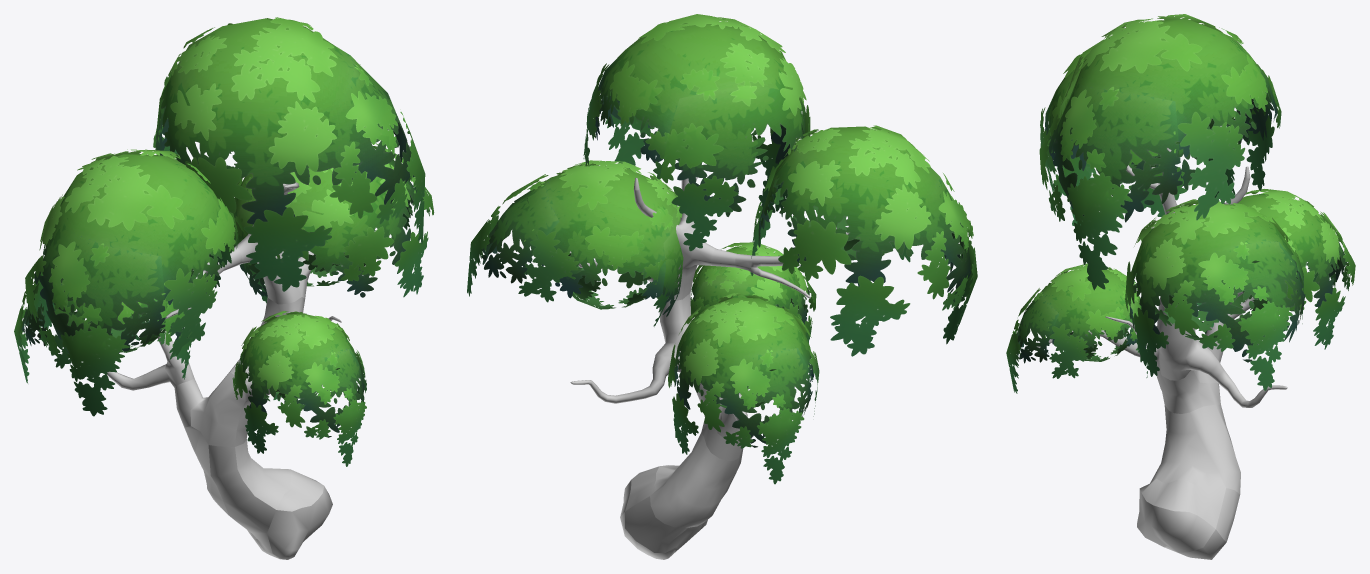
Rendered from Tree_upright(1).fbx.
The picture shows the model from 3 angles, left to right: view 1: azimuth 30°, elevation 25°; view 2: azimuth 150°, elevation 25°; view 3: azimuth 270°, elevation 25°; orthographic projection. The views are drawn at different scales.
Visible parts, largest first — view 1: pCube15, pCube16, pCube14, pCube17; view 2: pCube15, pCube14, pCube17, pCube16; view 3: pCube15, pCube17, pCube14, pCube16.
Part boxes in pixels (bbox=[...]): pCube15: bbox=[14, 17, 425, 559]; pCube16: bbox=[232, 311, 366, 466]; pCube14: bbox=[233, 160, 418, 297]; pCube17: bbox=[234, 143, 434, 303]; pCube15: bbox=[570, 14, 977, 559]; pCube14: bbox=[481, 165, 683, 316]; pCube17: bbox=[467, 160, 682, 326]; pCube16: bbox=[690, 242, 816, 342]; pCube15: bbox=[1036, 14, 1355, 559]; pCube17: bbox=[1125, 199, 1303, 390]; pCube14: bbox=[1129, 204, 1305, 362]; pCube16: bbox=[1006, 263, 1148, 393].
Bounding box in the file's own units: 29.05 × 34.28 × 20.89.
